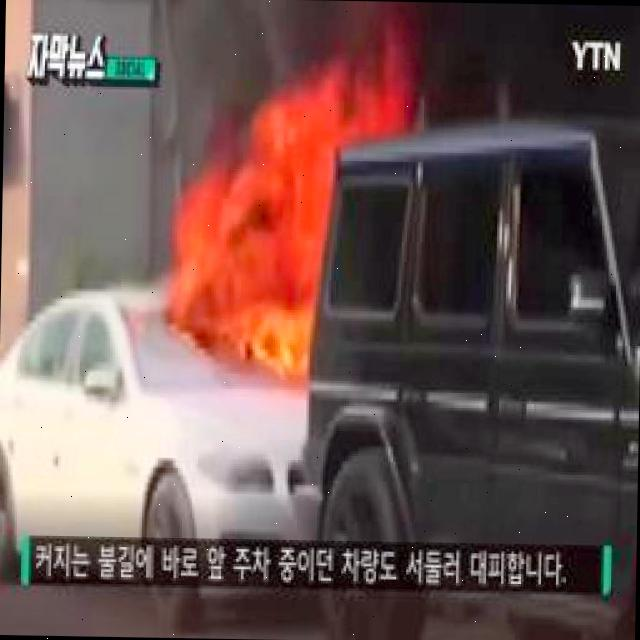fire: (184, 80, 342, 374)
